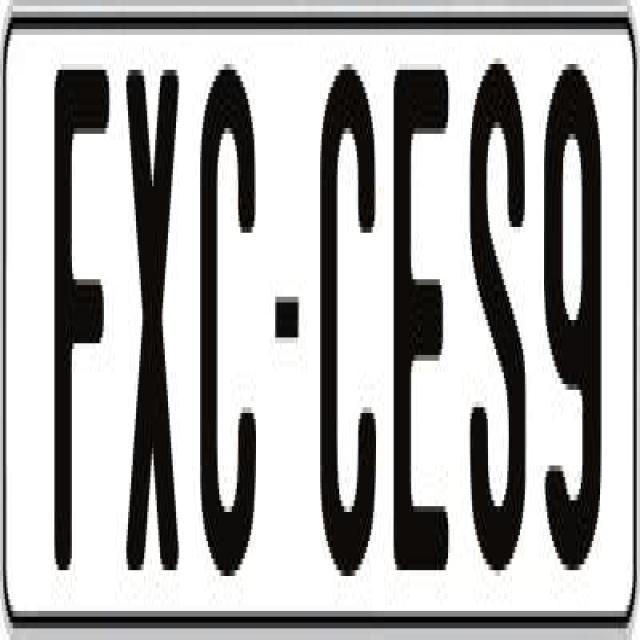9: (539, 58, 605, 582)
C: (198, 64, 262, 576), (316, 70, 380, 582)
E: (391, 58, 452, 564)
F: (53, 70, 117, 594)
S: (466, 64, 524, 594)
X: (124, 52, 186, 553)
